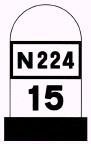Demarcacao quilometrica da via - restantes estradas: (4, 4, 87, 141)
